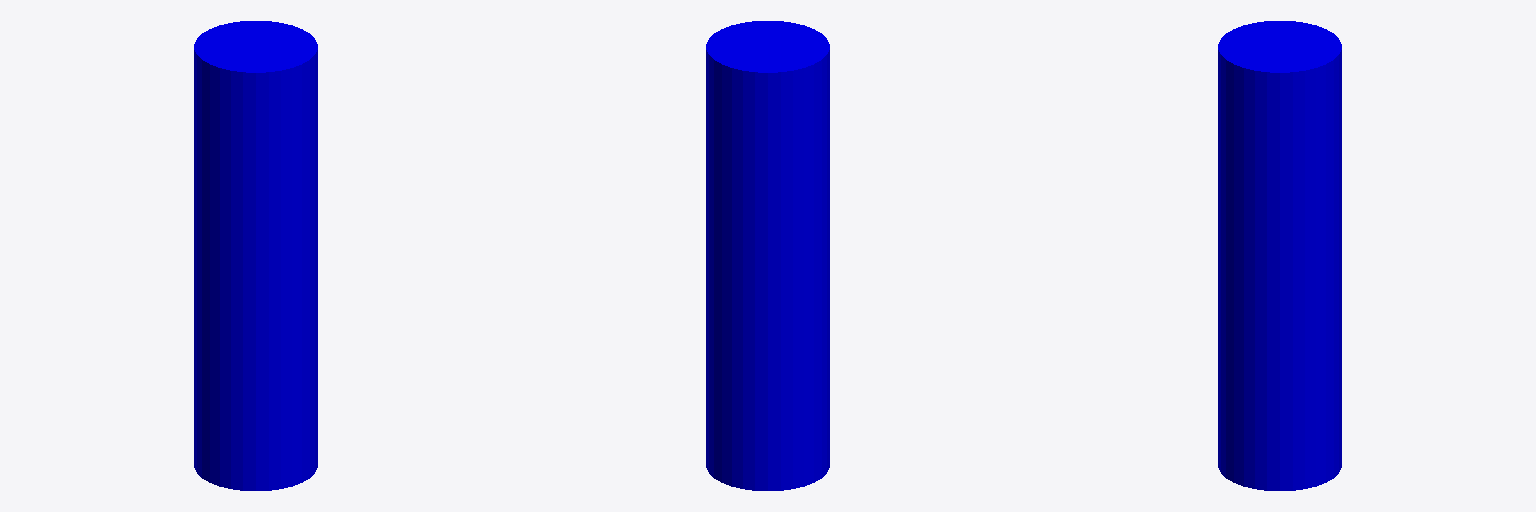
The robot description file, URDF, robot "Medium_Long_Circle_DarkBlue":
<?xml version="1.0"?>
<robot name="Medium_Long_Circle_DarkBlue">
    <link name="Medium_Long_Circle_DarkBlue">
        <visual>
            <geometry>
                <mesh filename="../mesh/factory_insertion/Medium_Long_Circle_DarkBlue.obj" scale="0.001 0.001 0.001"/>
            </geometry>
            <material name="DarkBlue">
              <color rgba="0 0 1.0 0"/>
            </material>
        </visual>
        <collision>
            <geometry>
                <mesh filename="../mesh/factory_insertion/Medium_Long_Circle_DarkBlue.obj" scale="0.001 0.001 0.001"/>
            </geometry>
            <sdf resolution="512"/>
        </collision>
    </link>
</robot>

--- What the picture shows (computed from the rendered views, not written in the file) ---
The picture shows the robot from 3 angles, left to right: view 1: azimuth 30°, elevation 25°; view 2: azimuth 150°, elevation 25°; view 3: azimuth 270°, elevation 25°; orthographic projection.
Robot: Medium_Long_Circle_DarkBlue — 1 links, 0 joints (none); root link Medium_Long_Circle_DarkBlue; default pose: every joint at zero.
Visible links, largest first — view 1: Medium_Long_Circle_DarkBlue; view 2: Medium_Long_Circle_DarkBlue; view 3: Medium_Long_Circle_DarkBlue.
Link boxes in pixels (x1,y1,x2,y2): Medium_Long_Circle_DarkBlue: (194,21,317,490); Medium_Long_Circle_DarkBlue: (706,21,829,490); Medium_Long_Circle_DarkBlue: (1218,21,1341,490).
Size in the robot's own frame: 0.0403 by 0.0401 by 0.15 metres.
1 mesh visuals loaded from 1 distinct referenced files (1 OBJ).
